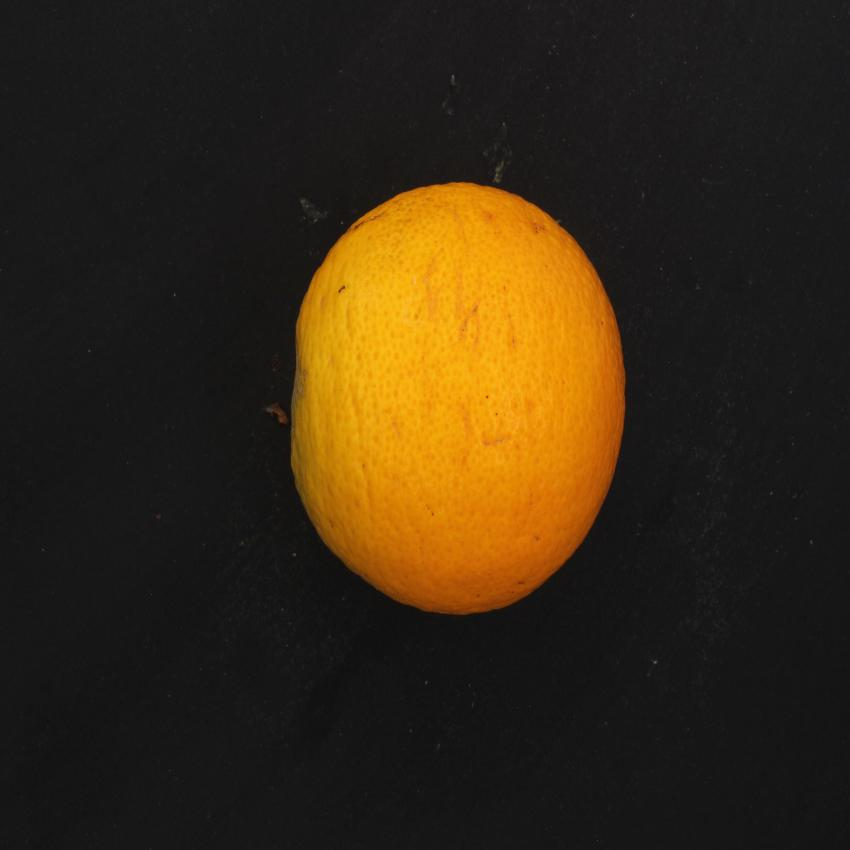Buen estado: (281, 170, 633, 633)
